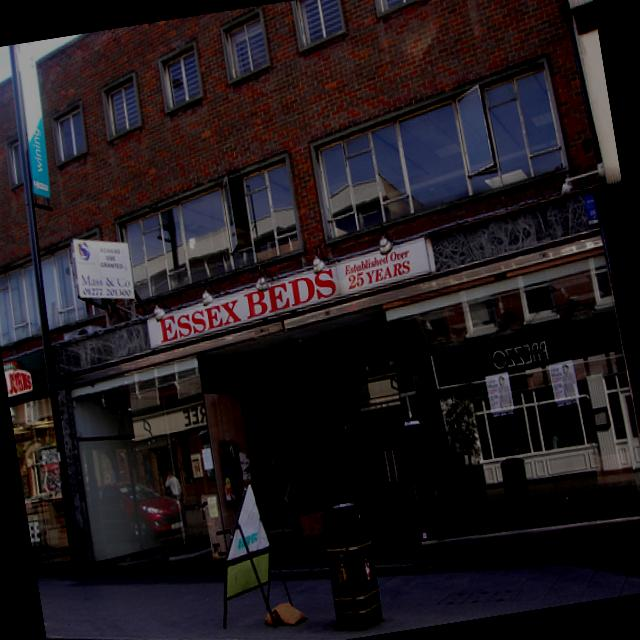Vehicle: (98, 472, 190, 545)
